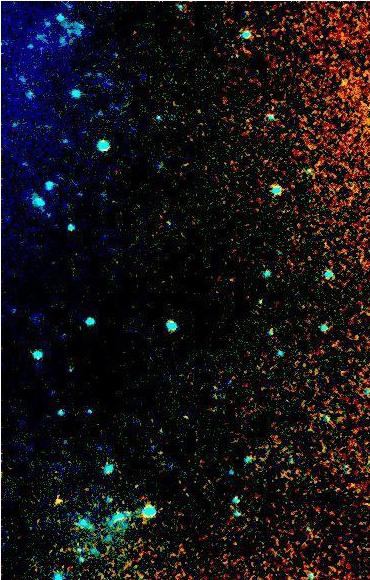star: (43, 485, 73, 515)
